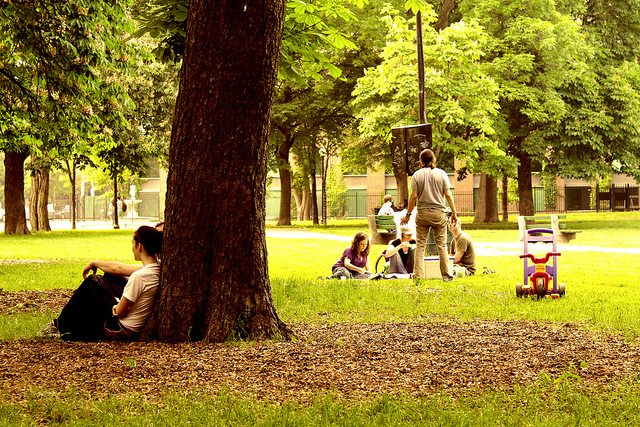person: (43, 226, 164, 339), (400, 148, 459, 280), (329, 233, 374, 282), (445, 215, 477, 280), (386, 227, 415, 276)
